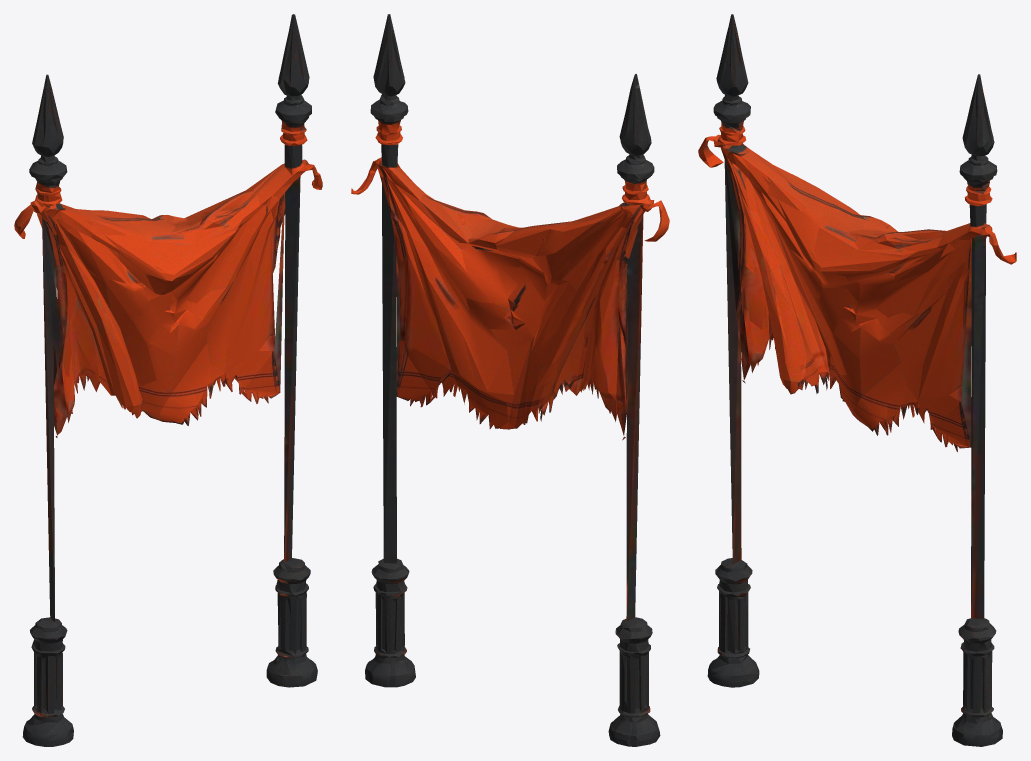
File: scorched-banner.glb
3 views of the same model, side by side, from view 1: azimuth 30°, elevation 25°; view 2: azimuth 150°, elevation 25°; view 3: azimuth 330°, elevation 25° (orthographic).
Size of the model in its own units: 0.9313 by 1.9 by 0.1851.
1 material, 1 textured.
